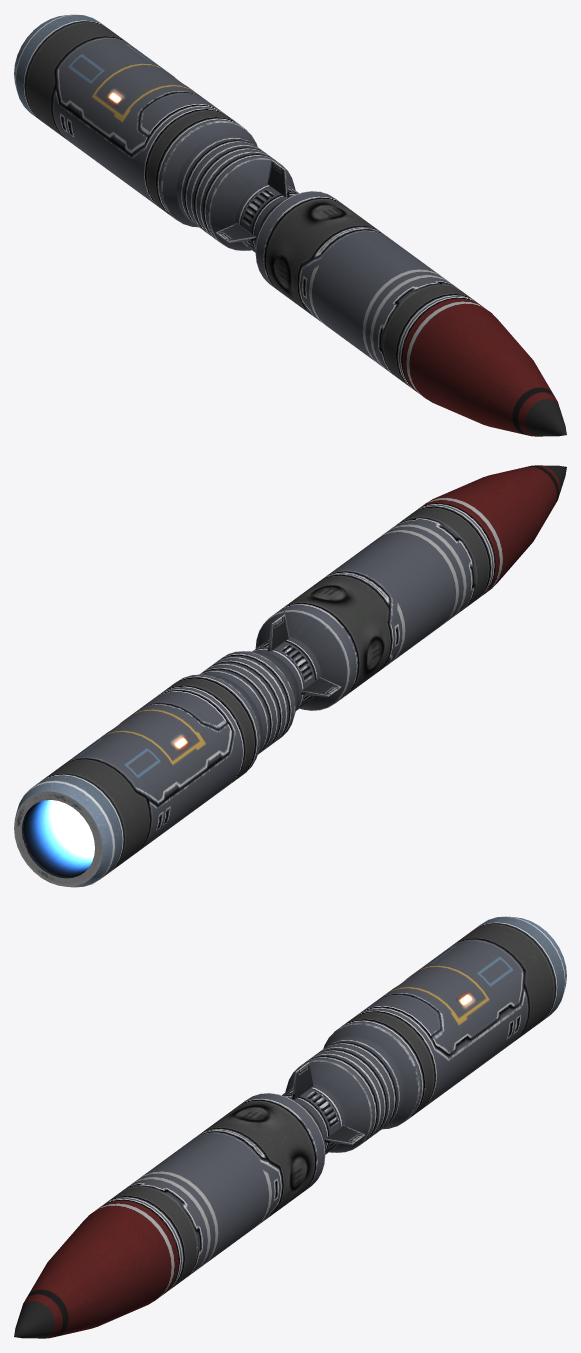
Rendered from StandardMissileMedium.fbx.
3 views of the same model, one above another, from view 1: azimuth 30°, elevation 25°; view 2: azimuth 150°, elevation 25°; view 3: azimuth 330°, elevation 25° (orthographic).
Visible parts, largest first — view 1: StandardMissileMedium; view 2: StandardMissileMedium; view 3: StandardMissileMedium.
Boxes of the visible parts, bbox=[...] form: StandardMissileMedium: bbox=[14, 14, 566, 436]; StandardMissileMedium: bbox=[14, 465, 566, 887]; StandardMissileMedium: bbox=[14, 916, 566, 1338].
Size of the model in its own units: 2.61 by 2.61 by 20.43.
